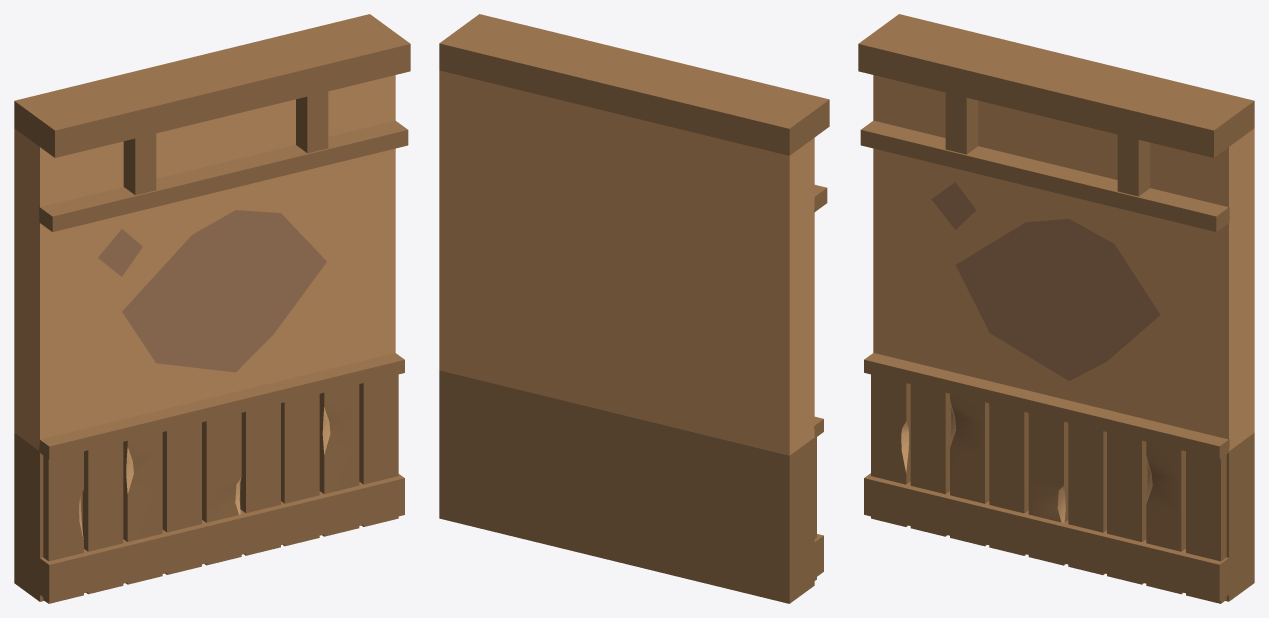
Rendered from Wall_Stains.fbx.
3 renders of one model, left to right at view 1: azimuth 30°, elevation 25°; view 2: azimuth 150°, elevation 25°; view 3: azimuth 330°, elevation 25°, orthographic.
Visible parts, largest first — view 1: Wall_Stains; view 2: Wall_Stains; view 3: Wall_Stains.
Boxes of the visible parts, x1,y1,x2,y2 form: Wall_Stains: (14, 14, 410, 603); Wall_Stains: (439, 14, 829, 603); Wall_Stains: (858, 14, 1254, 603).
Size of the model in its own units: 400 by 518 by 79.52.
